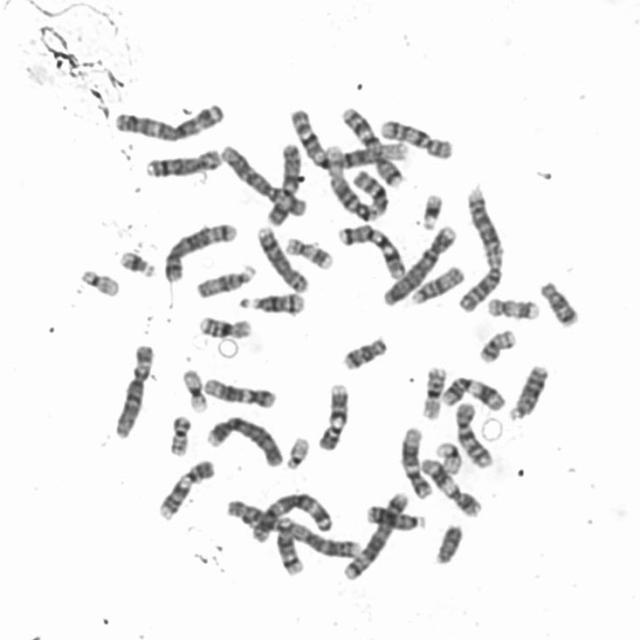A1: (290, 108, 409, 172), (324, 143, 391, 224)
A2: (225, 496, 362, 560), (452, 184, 506, 313)
A3: (114, 100, 225, 143), (250, 492, 334, 546)
B4: (382, 224, 458, 309), (207, 415, 284, 470)
B5: (342, 492, 409, 582), (164, 222, 239, 283)
C10: (379, 119, 454, 161), (454, 401, 496, 467)
C11: (420, 458, 482, 520), (438, 376, 506, 413)
C12: (202, 376, 278, 414), (398, 426, 433, 500)
C6: (219, 144, 309, 218), (112, 342, 154, 441)
C7: (338, 104, 403, 188), (336, 224, 405, 281)
C8: (256, 224, 310, 293), (143, 147, 221, 180)
C9: (156, 458, 218, 522), (317, 382, 351, 453)
D13: (508, 364, 551, 421), (365, 504, 427, 533)
D14: (275, 515, 307, 577), (238, 292, 306, 317)
D15: (408, 265, 466, 305), (196, 263, 256, 301)
E16: (422, 366, 447, 422), (196, 316, 252, 339)
E17: (283, 236, 334, 271), (486, 297, 540, 322)
E18: (538, 280, 580, 330), (340, 335, 390, 372)
F19: (180, 368, 209, 413), (434, 441, 464, 475)
F20: (478, 328, 516, 365), (166, 415, 193, 458)
G21: (118, 250, 158, 279), (419, 191, 444, 231)
G22: (80, 270, 120, 297), (284, 434, 311, 472)
X: (264, 142, 303, 228)
Y: (432, 523, 465, 566)
